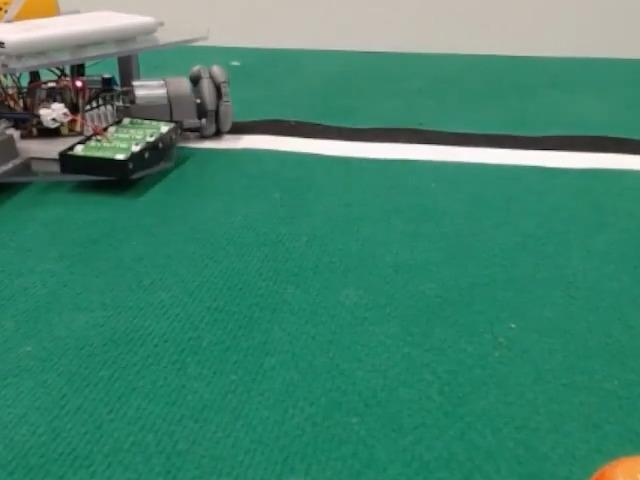Ball: (590, 456, 639, 479)
